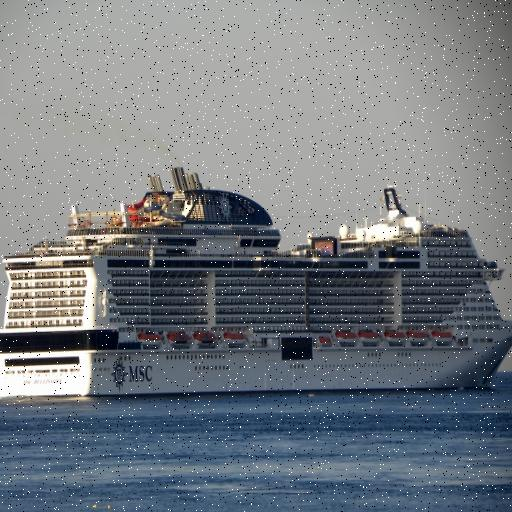cruises: (1, 164, 512, 410)
